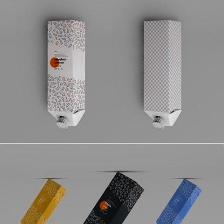carton: (42, 15, 96, 130), (138, 16, 184, 132), (79, 169, 146, 223), (16, 177, 74, 223), (153, 177, 203, 224)
